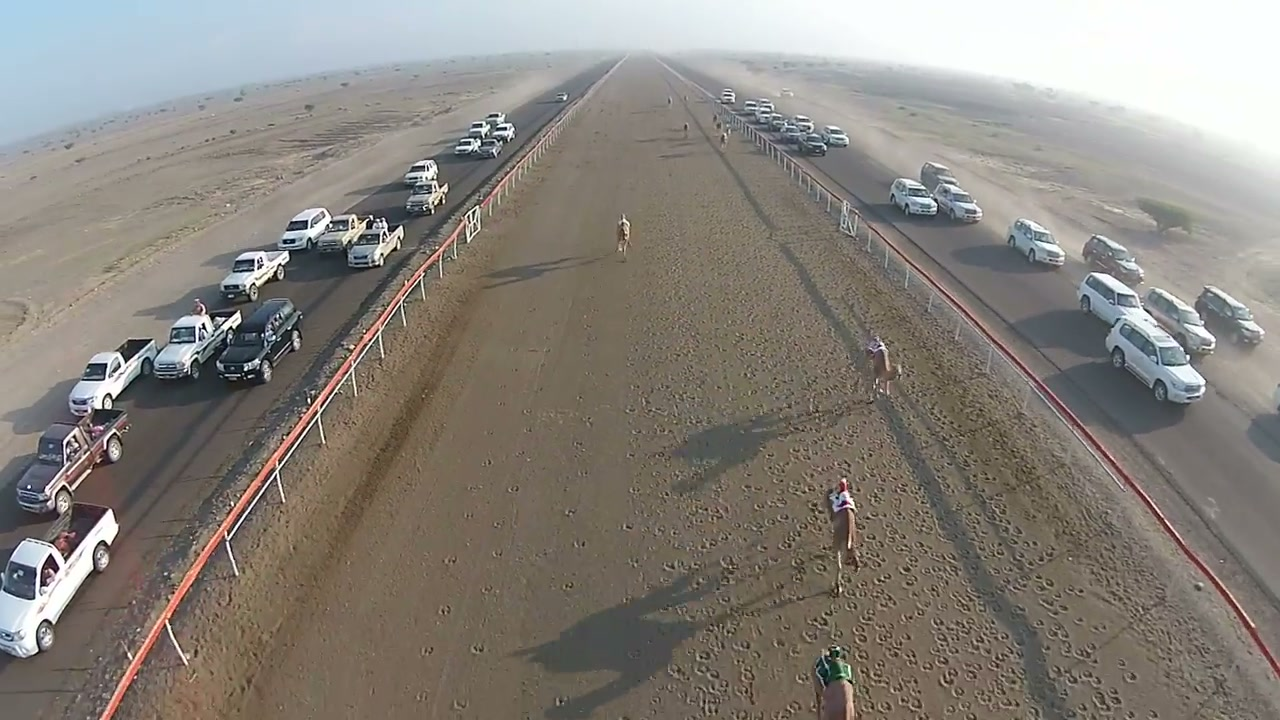animal_foot_print: (856, 373, 1122, 708), (706, 271, 850, 719), (606, 262, 742, 718)
